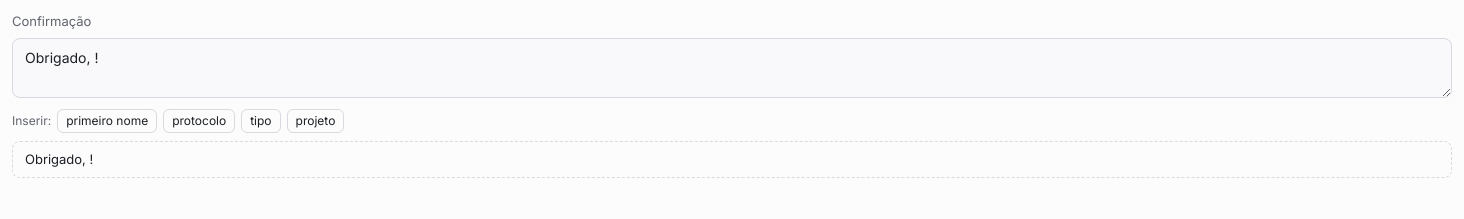
TemplateField › o botao poe a variavel onde esta o cursor, e o cursor vai para depois dela
The width and height of the screenshot is (1464, 219).
Click the button "primeiro nome" at {"x": 107, "y": 120}, box [57, 108, 157, 132]
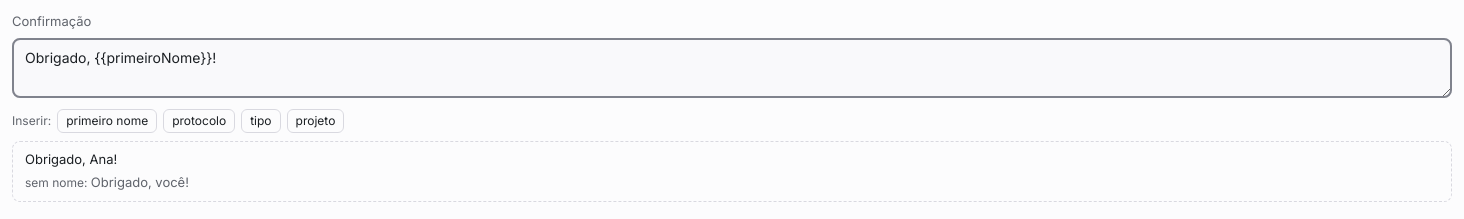
Expected: the text box labelled "Confirmação" holds "Obrigado, {{primeiroNome}}!", [12, 38, 1452, 98]
